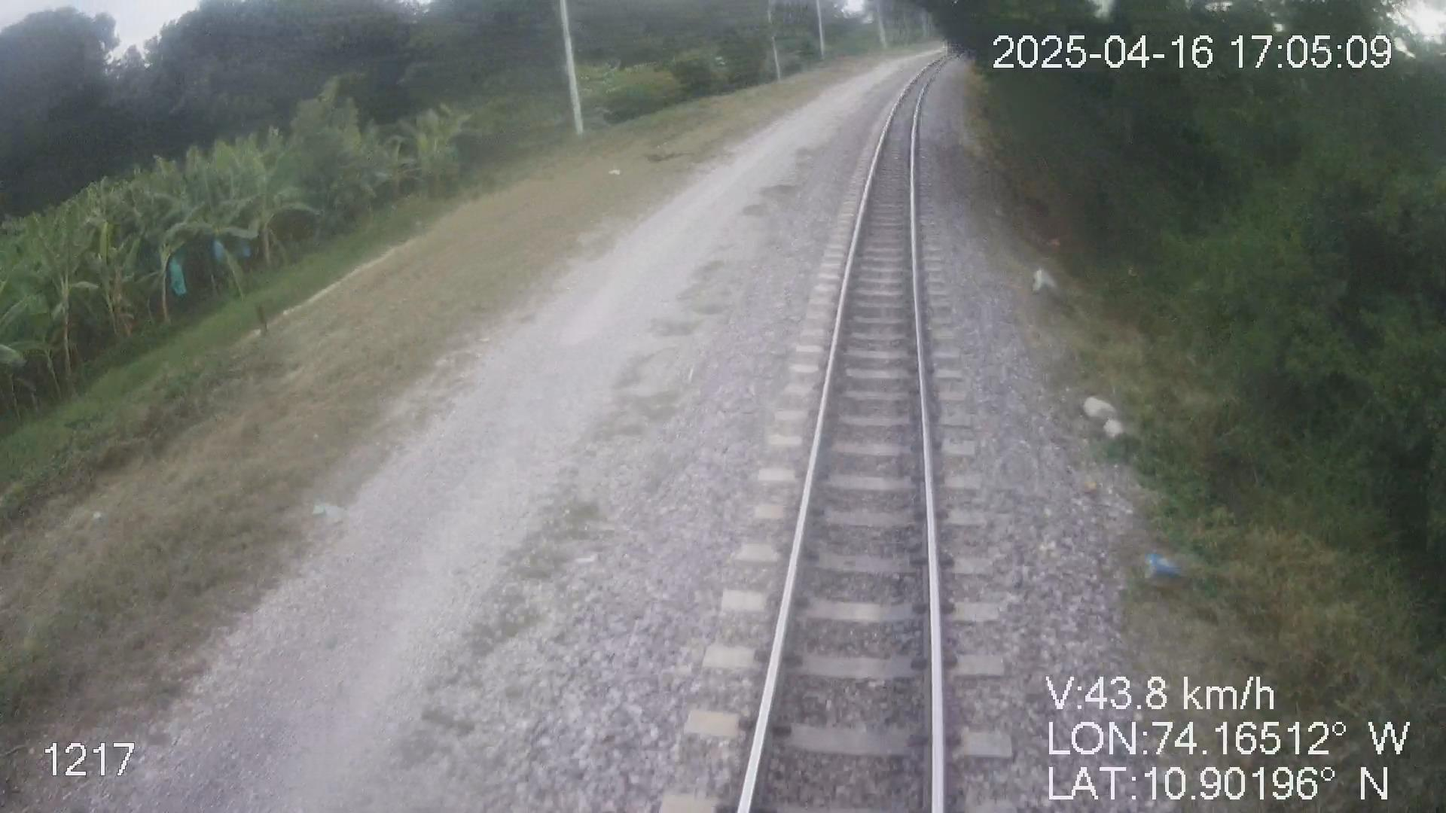Pasto: (0, 0, 889, 812), (901, 0, 1445, 812)
